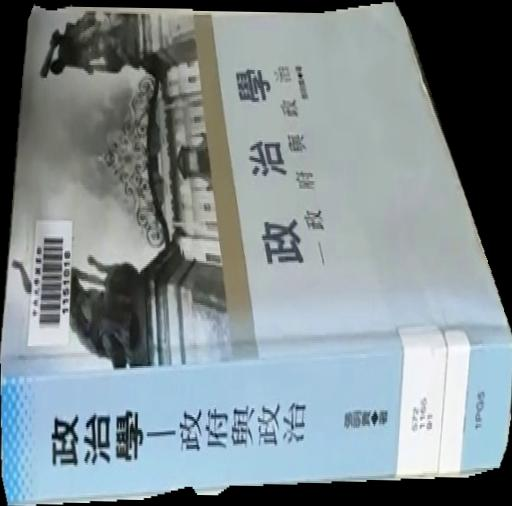flat: (1, 1, 512, 506)
